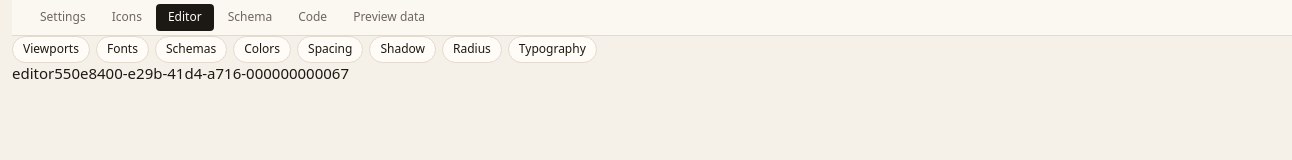
Test: editor subnavigation › switches Editor, Schema, and Preview without resetting the selected catalog node
Click the button "Schema": click(250, 18) [216,4,284,31]
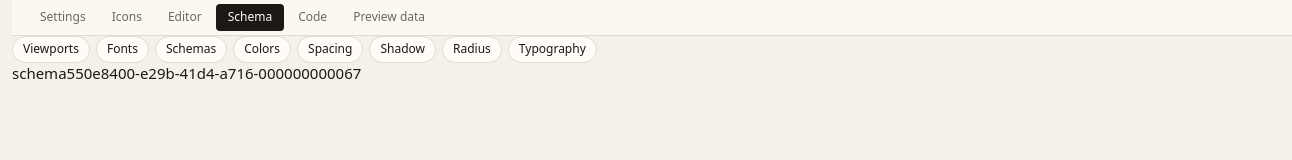
Expected: the text with test id "surface" reads "schema", [12,63,67,83]
Click the button "Code": click(313, 18) [286,4,339,31]
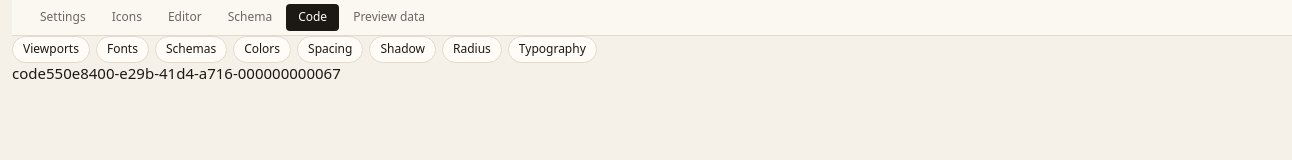
Expected: the text with test id "surface" reads "code", [12,63,46,83]
Click the button "Preview data": click(389, 18) [341,4,437,31]
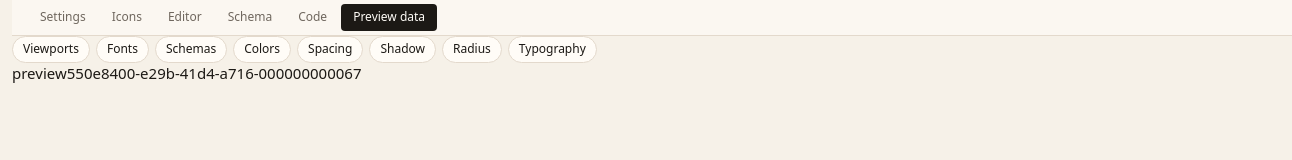
Expected: the text with test id "surface" reads "preview", [12,63,67,83]
Click the button "Editor": click(185, 18) [156,4,214,31]
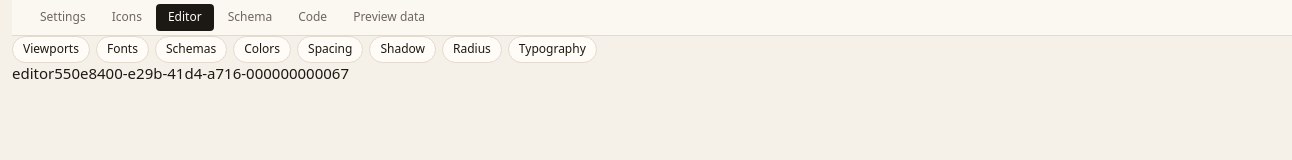
Expected: the text with test id "selected-node" reads "550e8400-e29b-41d4-a716-000000000067", [54,63,349,83]
Expected: the text with test id "surface" reads "editor", [12,63,54,83]
